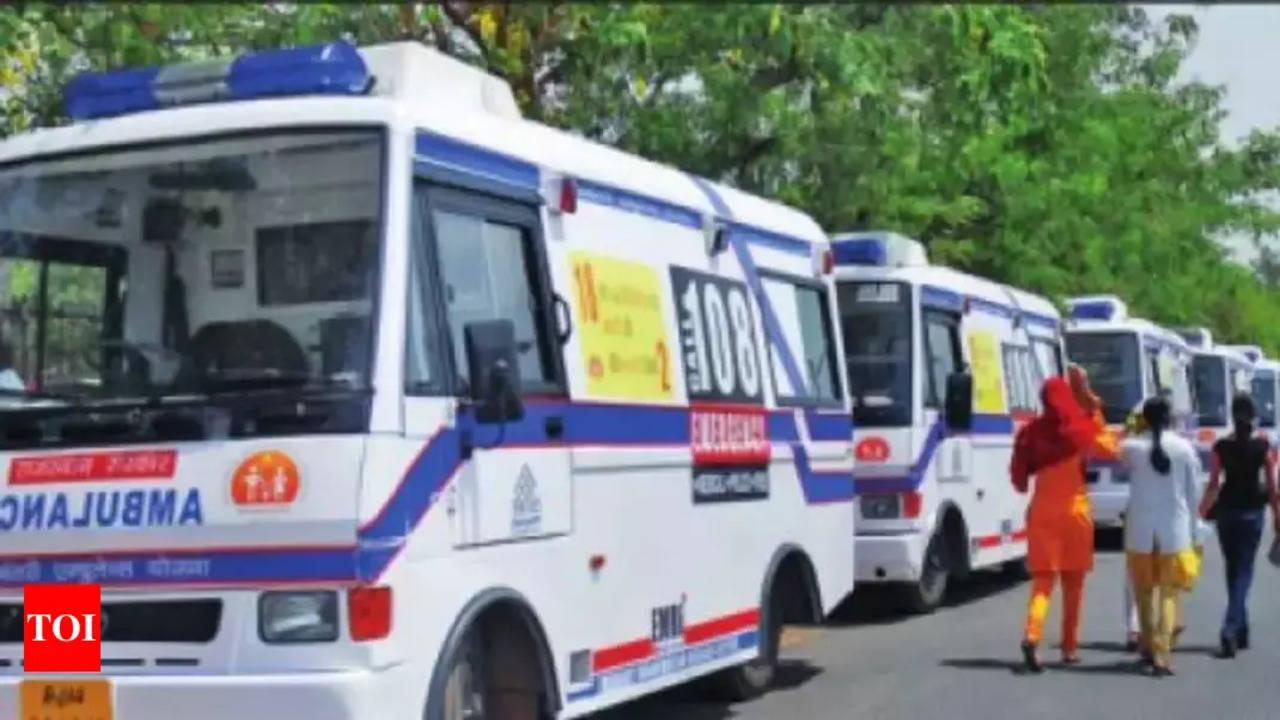ER: (0, 39, 856, 720), (825, 230, 1079, 610), (1068, 295, 1200, 533), (1192, 328, 1264, 488)
